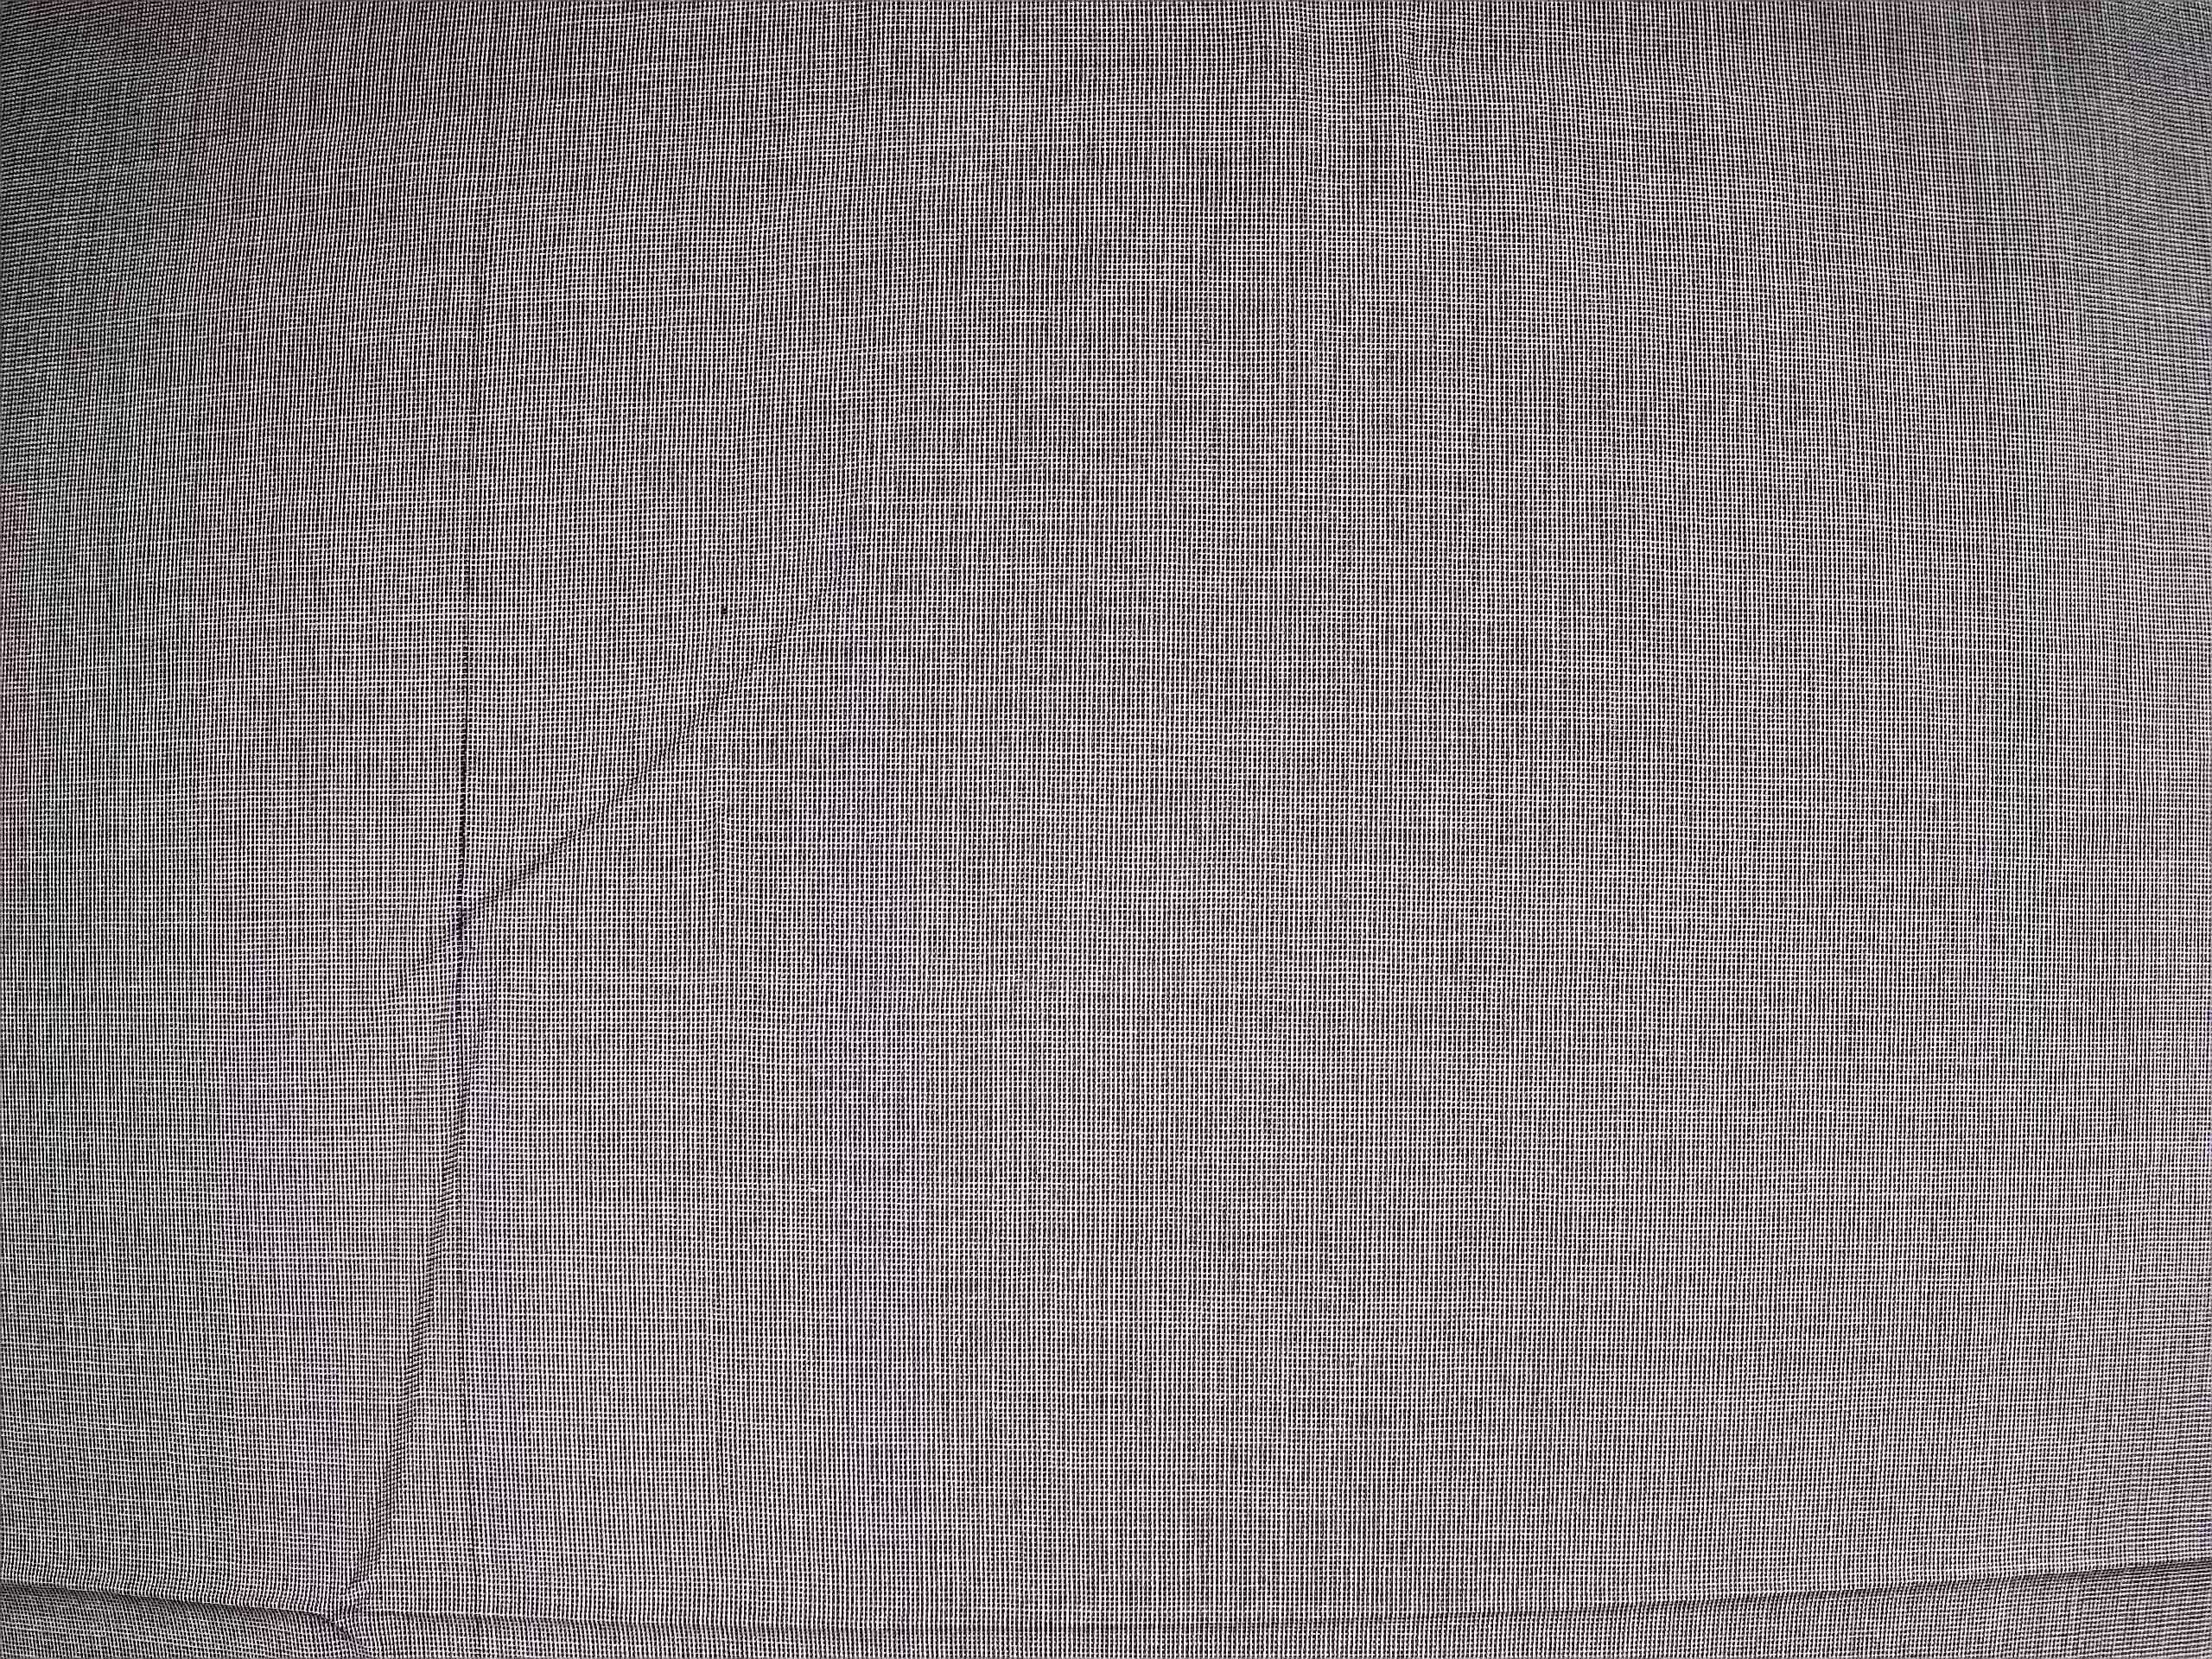others: (437, 31, 502, 1626)
